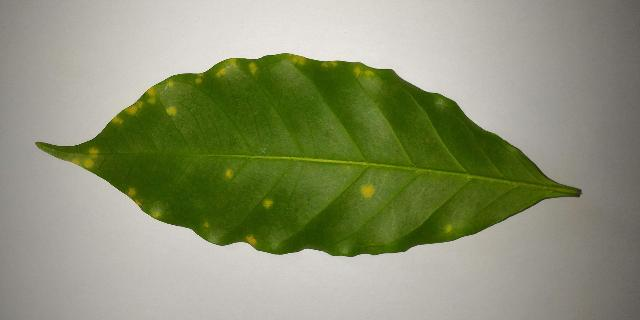miner: (145, 78, 176, 103), (65, 148, 98, 170), (217, 58, 237, 76), (123, 101, 143, 115), (354, 67, 373, 80), (286, 53, 306, 65), (361, 184, 375, 198), (149, 209, 161, 219), (166, 105, 176, 116), (111, 114, 122, 123), (247, 236, 256, 246), (127, 188, 136, 198), (263, 199, 272, 208), (196, 73, 204, 83), (249, 62, 256, 73), (323, 61, 336, 66), (226, 169, 232, 178), (133, 200, 141, 206), (446, 225, 452, 232), (204, 223, 208, 227), (42, 148, 44, 150), (468, 176, 470, 177)
